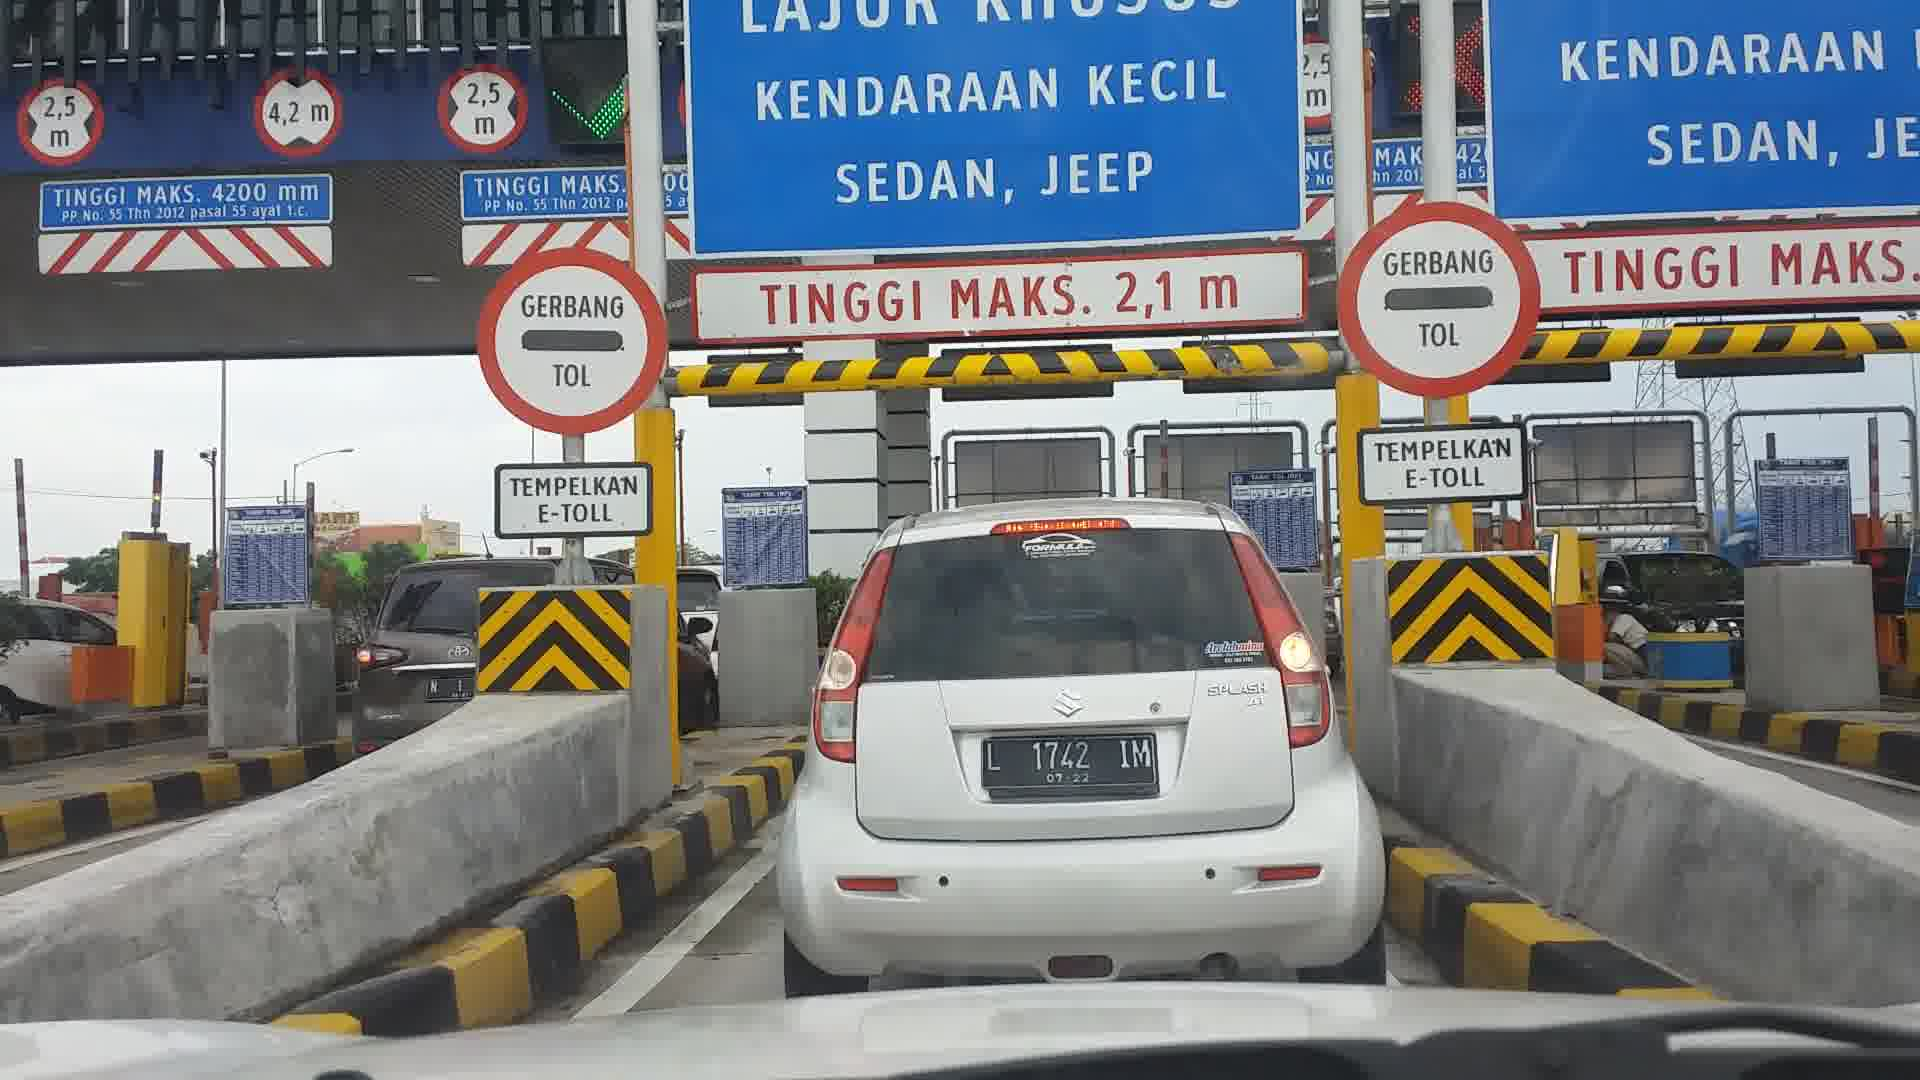plate_positive: (981, 735, 1159, 802)
